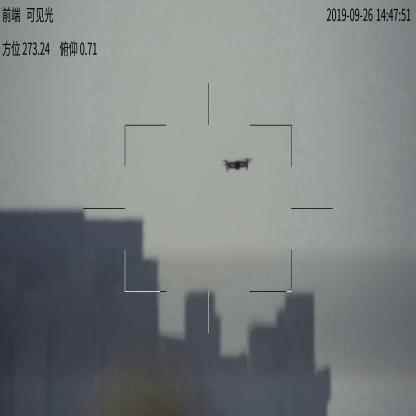uav: (220, 156, 254, 175)
